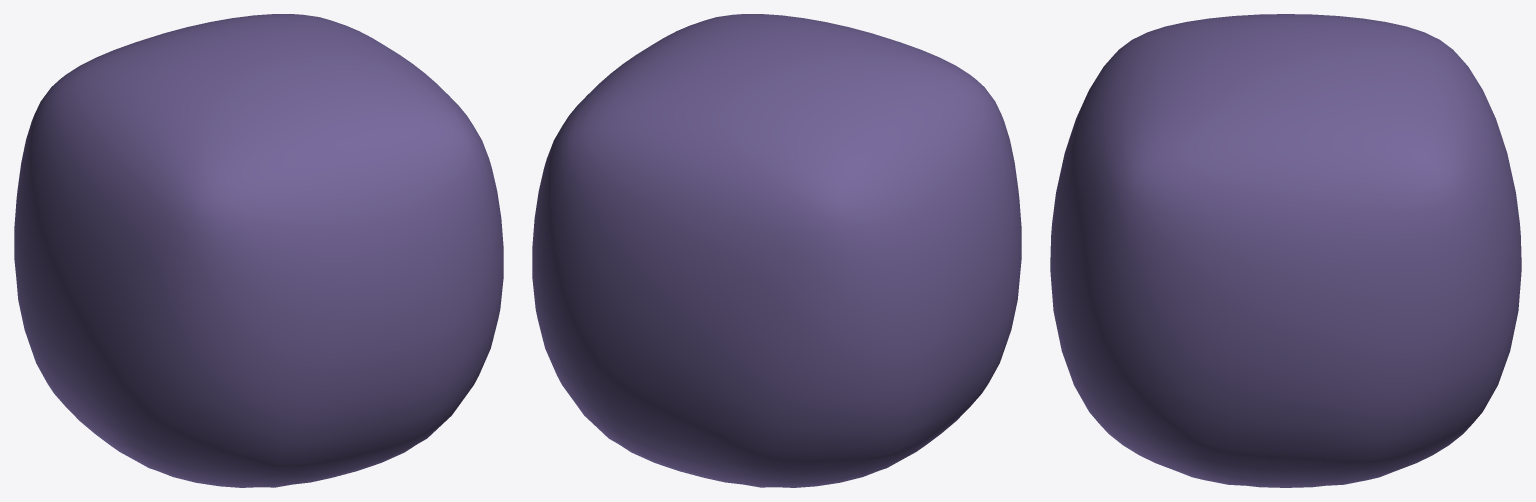
File: Pouf2_6.fbx
The picture shows the model from 3 angles, left to right: view 1: azimuth 30°, elevation 25°; view 2: azimuth 150°, elevation 25°; view 3: azimuth 270°, elevation 25°; orthographic projection.
Visible parts, largest first — view 1: pCube2895; view 2: pCube2895; view 3: pCube2895.
Boxes of the visible parts, x1,y1,x2,y2 form: pCube2895: (14, 14, 503, 487); pCube2895: (532, 14, 1021, 487); pCube2895: (1050, 14, 1521, 487).
Size of the model in its own units: 32.68 by 31.09 by 32.67.
